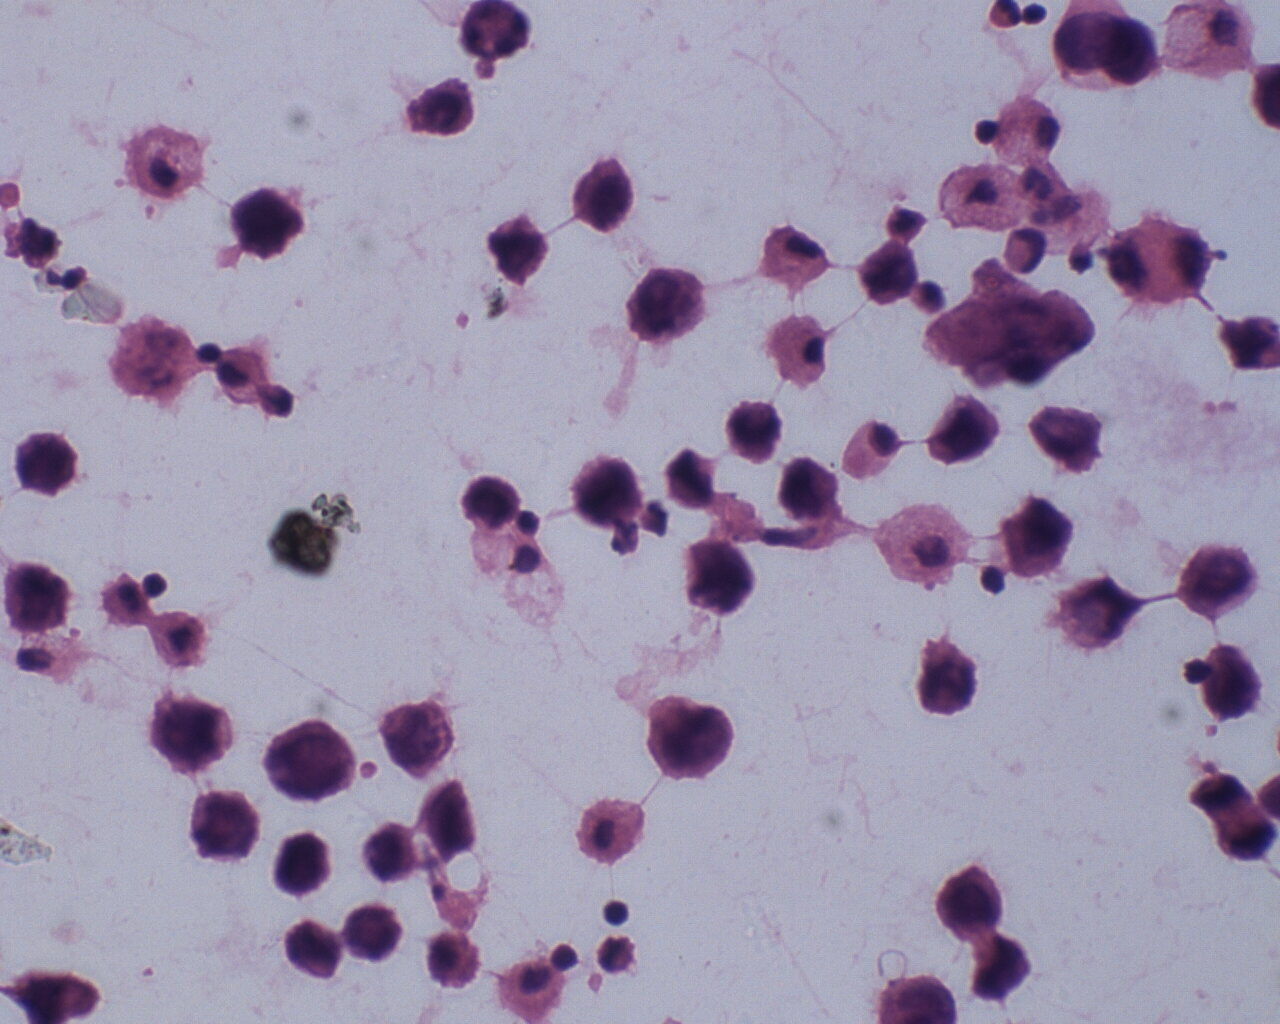ab: (261, 712, 356, 806), (648, 690, 740, 785), (1054, 571, 1143, 658), (220, 183, 310, 270), (374, 693, 461, 779), (627, 264, 713, 348), (146, 696, 235, 769), (995, 499, 1079, 576), (1, 556, 77, 641), (680, 530, 755, 615), (184, 788, 263, 867), (571, 453, 649, 533), (571, 149, 636, 243), (928, 394, 1003, 473), (1180, 545, 1260, 620), (482, 206, 553, 287), (935, 857, 1005, 939), (1197, 643, 1266, 723), (774, 448, 845, 526), (402, 71, 475, 138), (853, 239, 921, 310), (11, 429, 84, 495), (275, 827, 336, 903), (343, 895, 408, 965), (282, 914, 345, 984)
histo: (864, 495, 974, 594), (1161, 4, 1254, 88), (127, 122, 207, 202), (767, 309, 831, 388), (993, 96, 1063, 167)
lymph: (601, 891, 635, 929)
meso: (1107, 210, 1220, 307)
